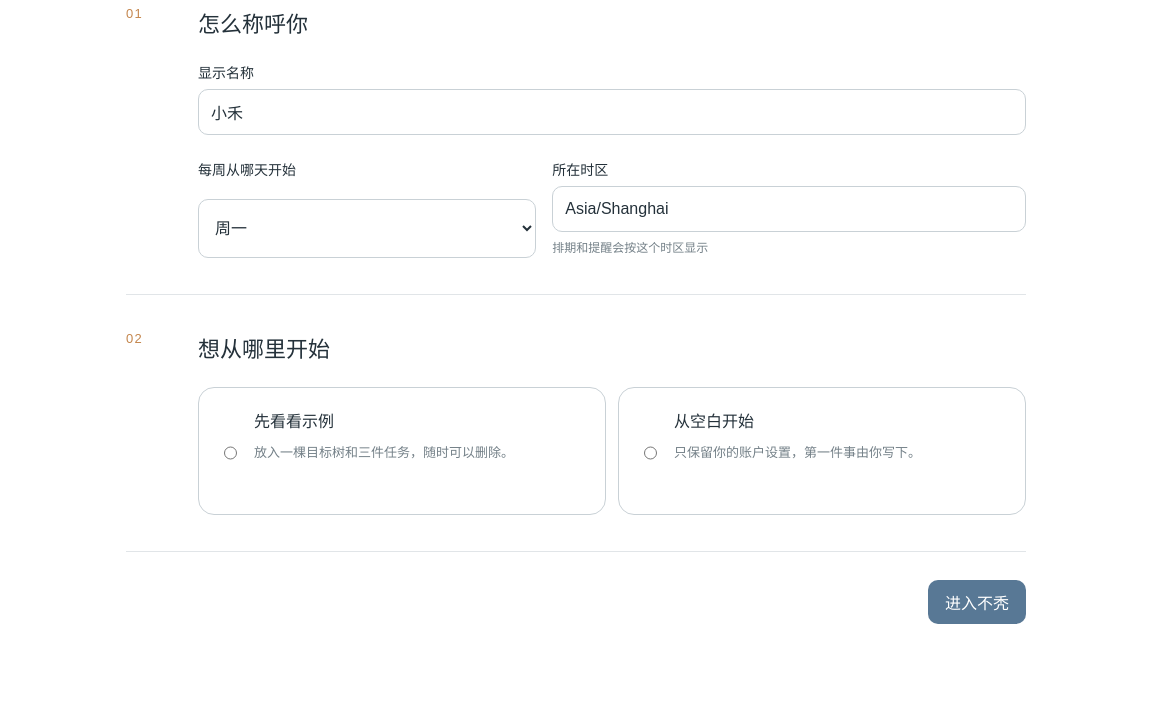
it: OnboardingForm › requires a start mode before completion
(page scrolled)
Click the button "进入不秃".
click(977, 602)  # box [928, 580, 1026, 624]
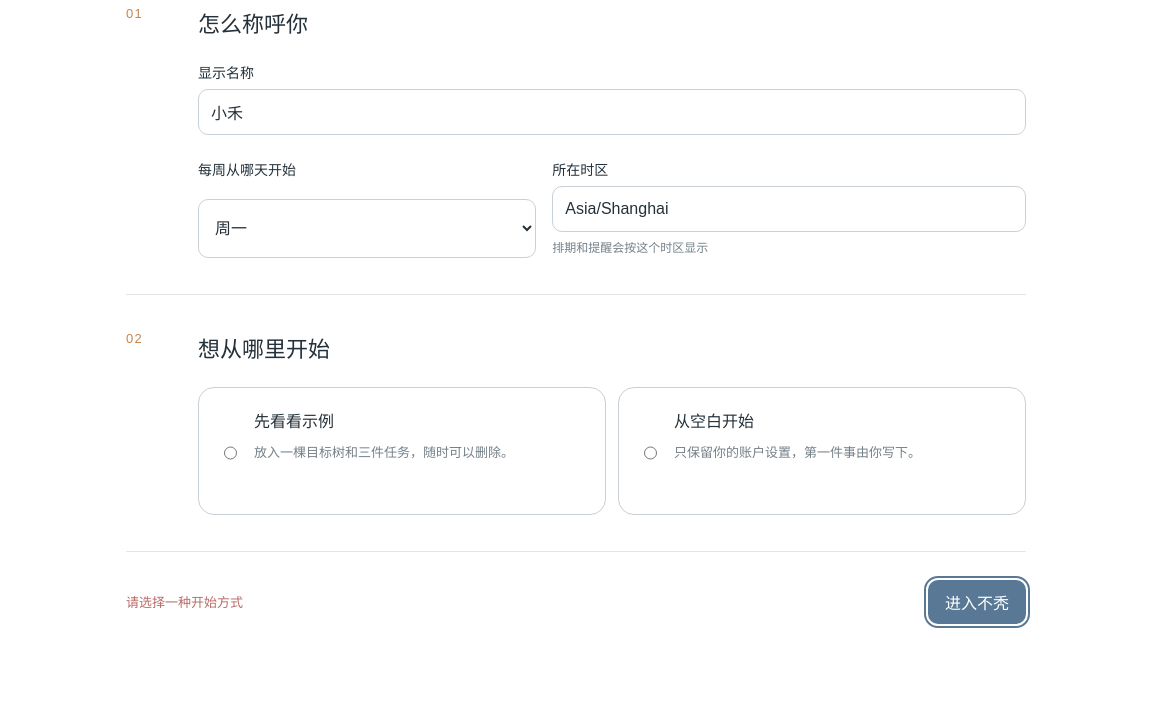
Expected: the message reads "请选择一种开始方式", [126, 595, 243, 610]
